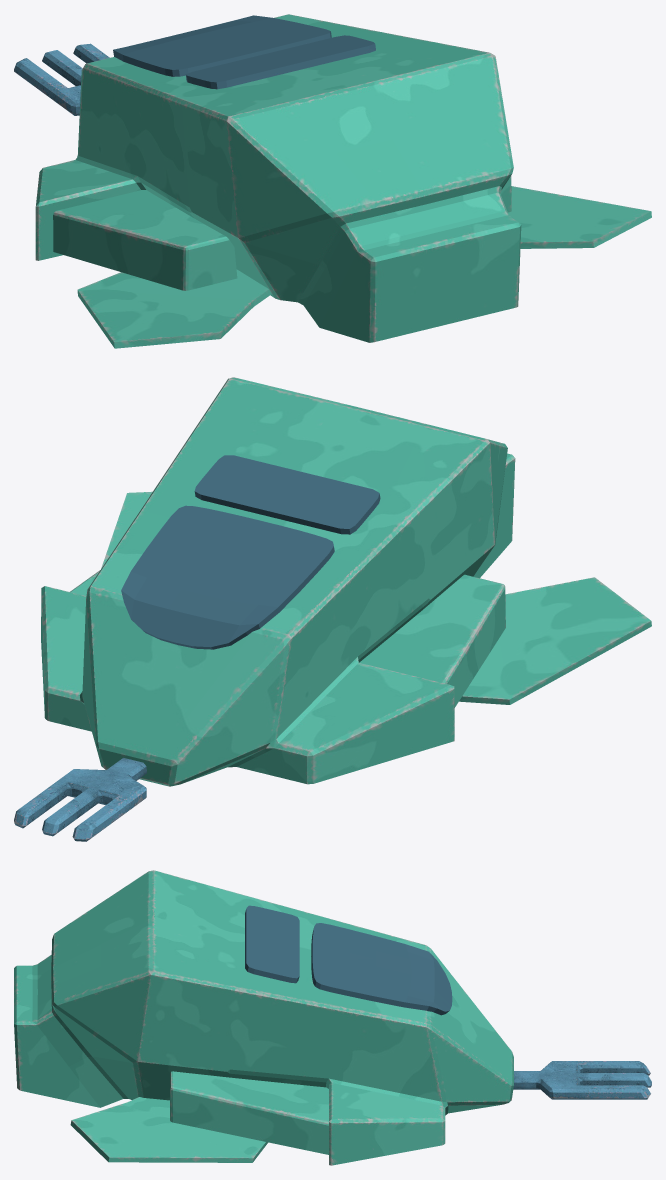
Rendered from player2.glb.
The picture shows the model from 3 angles, top to bottom: view 1: azimuth 30°, elevation 25°; view 2: azimuth 150°, elevation 25°; view 3: azimuth 270°, elevation 25°; orthographic projection. The views are drawn at different scales.
Parts seen in each view (by area): view 1: aileron_R, Fourchette; view 2: aileron_R, Fourchette; view 3: aileron_R, Fourchette.
Part boxes in pixels (left/top/right/bottom): aileron_R: left=35, top=14, right=651, bottom=348; Fourchette: left=14, top=43, right=109, bottom=115; aileron_R: left=41, top=377, right=651, bottom=786; Fourchette: left=14, top=758, right=146, bottom=841; aileron_R: left=14, top=870, right=513, bottom=1165; Fourchette: left=513, top=1061, right=651, bottom=1099.
Bounding box in the file's own units: 1.73 × 0.6692 × 2.24.
1 material, 1 textured.
